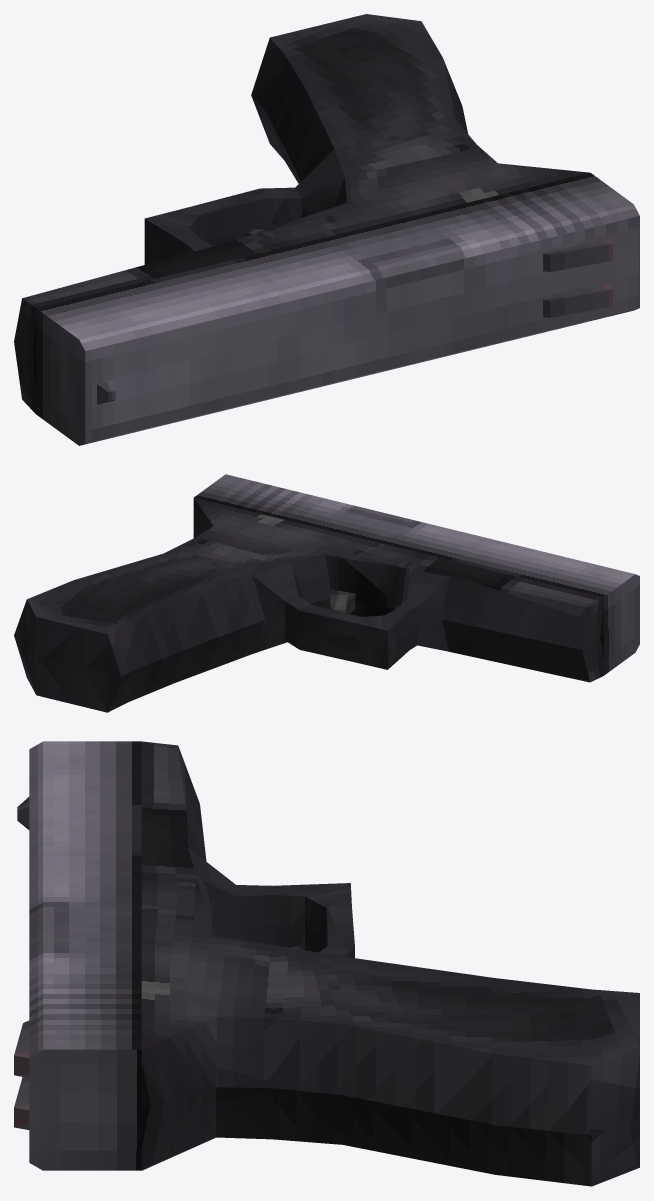
The model's file is pistol.glb.
The picture shows the model from 3 angles, top to bottom: view 1: azimuth 30°, elevation 25°; view 2: azimuth 150°, elevation 25°; view 3: azimuth 270°, elevation 25°; orthographic projection. The views are drawn at different scales.
Visible parts, largest first — view 1: Pistol; view 2: Pistol; view 3: Pistol.
Part boxes in pixels (left/top/right/bottom): Pistol: left=14, top=14, right=639, bottom=445; Pistol: left=14, top=474, right=639, bottom=712; Pistol: left=14, top=741, right=639, bottom=1186.
Size of the model in its own units: 1.08 by 0.1825 by 0.8556.
Materials: 1 (1 with a texture image).
